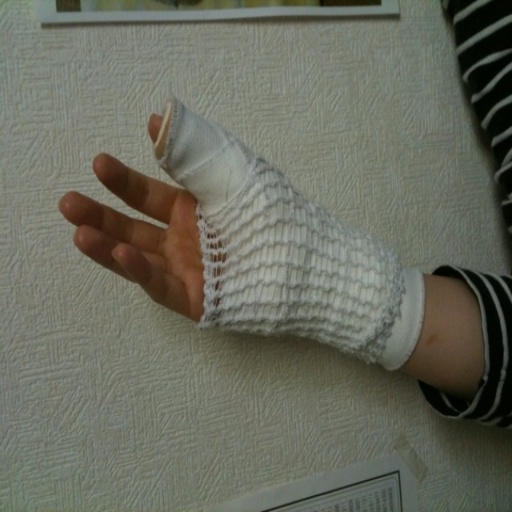hand: (63, 72, 480, 366)
